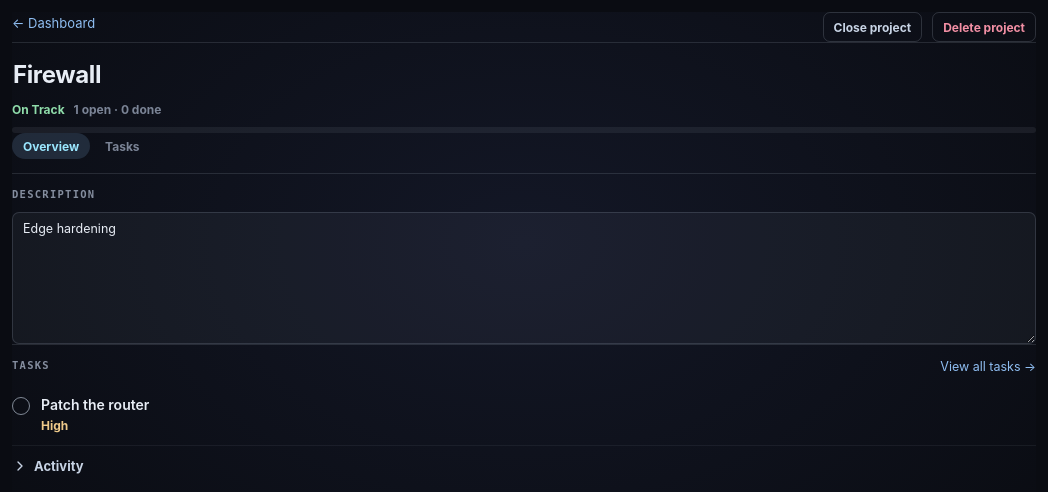
Test: ProjectDetailPage › keeps a description edit typed while the name save is in flight
Replace the text in the field named "Project name" with "Edge Firewall" at x=524, y=75, box [12,57,1036,93]
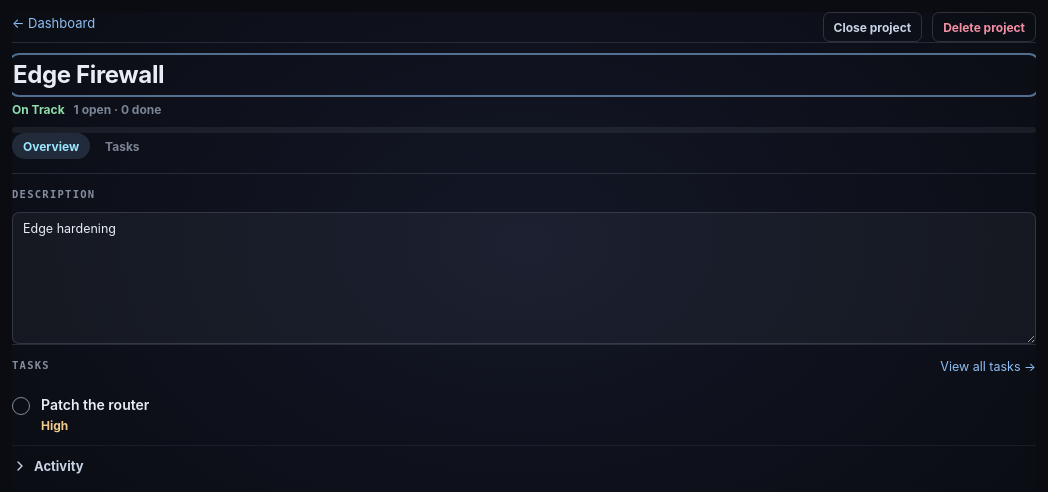
Clicking into the description blurs the name, which starts its save.
Click the text box named "Project description" at x=524, y=278, box [12,212,1036,344]
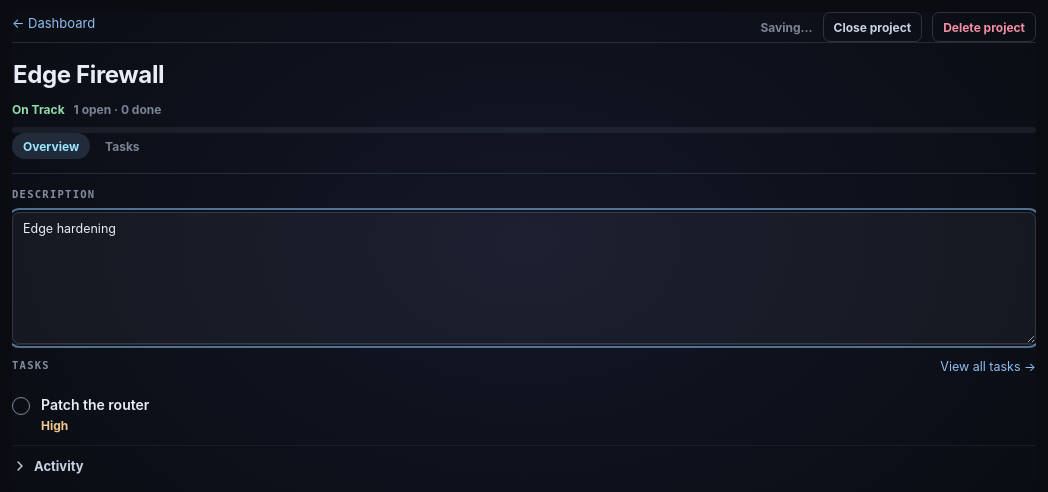
Replace the text in the text box named "Project description" with "Half-typed" at x=524, y=278, box [12,212,1036,344]
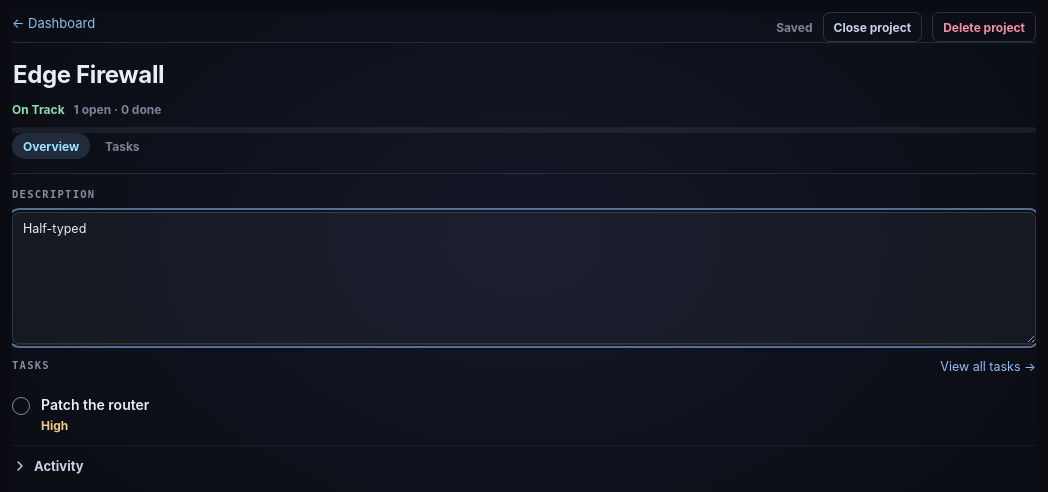
Check: the text "Saved" is shown, box [776,20,813,34]
